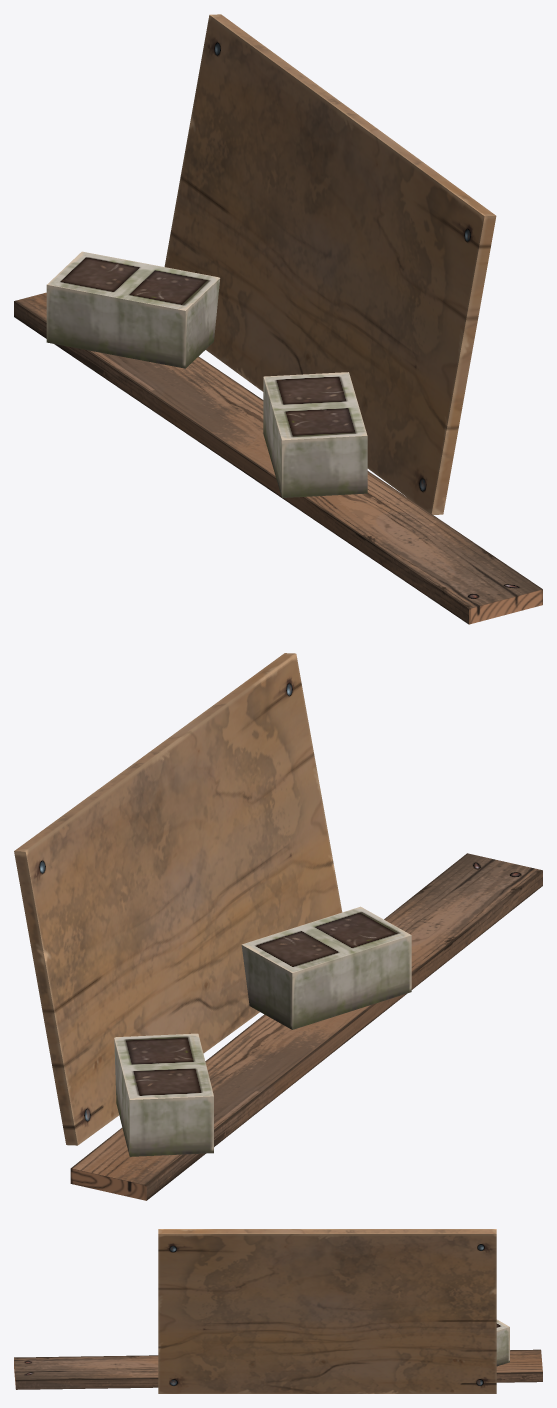
The model's file is raisedBed_dressing06.fbx.
The picture shows the model from 3 angles, top to bottom: view 1: azimuth 30°, elevation 25°; view 2: azimuth 150°, elevation 25°; view 3: azimuth 270°, elevation 25°; orthographic projection. The views are drawn at different scales.
Visible parts, largest first — view 1: raisedBed_dressing06; view 2: raisedBed_dressing06; view 3: raisedBed_dressing06.
Boxes of the visible parts, x1,y1,x2,y2 form: raisedBed_dressing06: [14, 14, 542, 624]; raisedBed_dressing06: [14, 653, 542, 1200]; raisedBed_dressing06: [14, 1229, 542, 1393].
Size of the model in its own units: 62.48 by 91.58 by 247.
